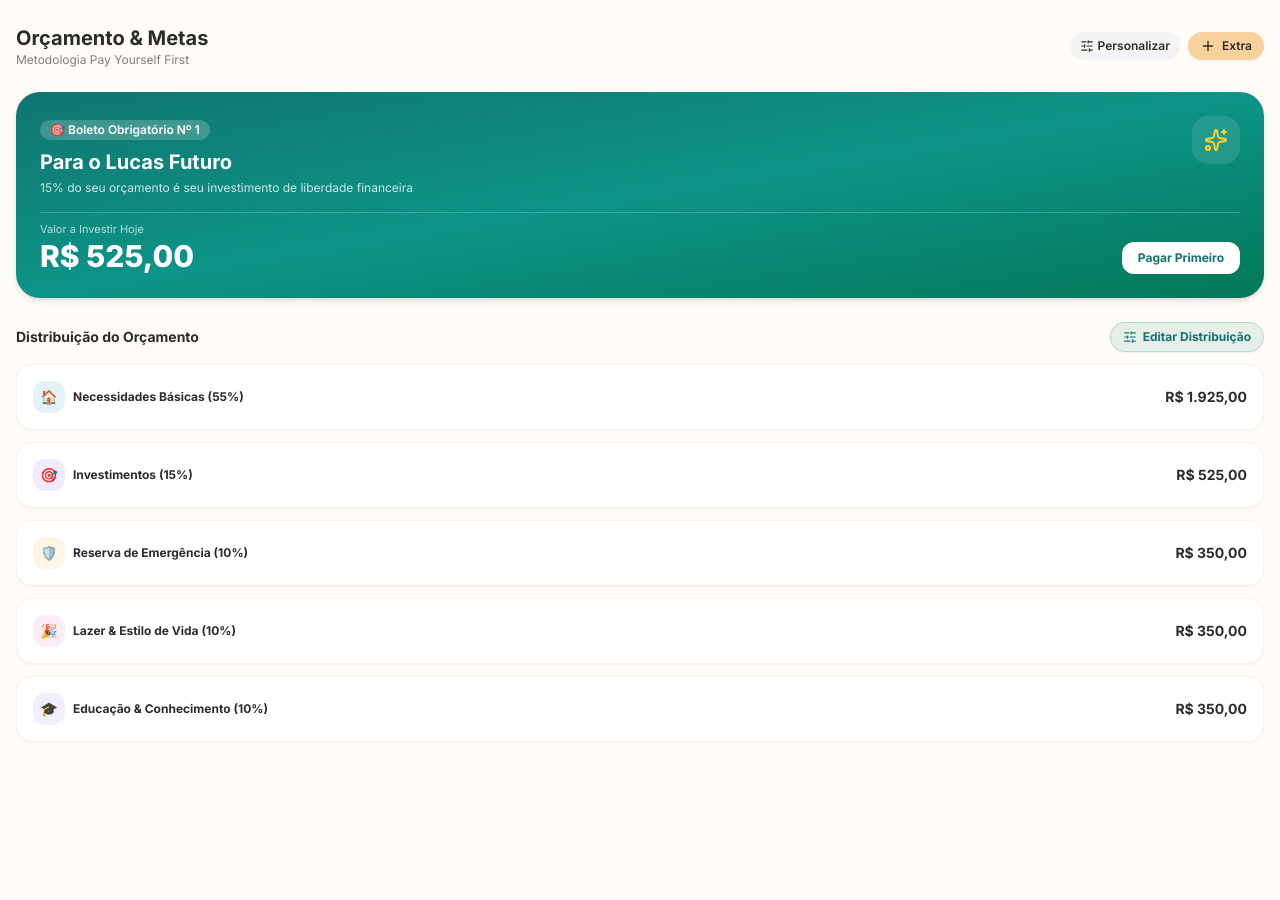
it: BudgetPage component - Pagar Primeiro › opens the InvestmentForm modal with pre-filled values when clicking 'Pagar Primeiro'
expect the heading "Orçamento & Metas" is shown: met, box [16,24,208,52]
// Click Pagar Primeiro
Click the button "Pagar Primeiro".
click(1181, 258)  # box [1122,242,1240,274]
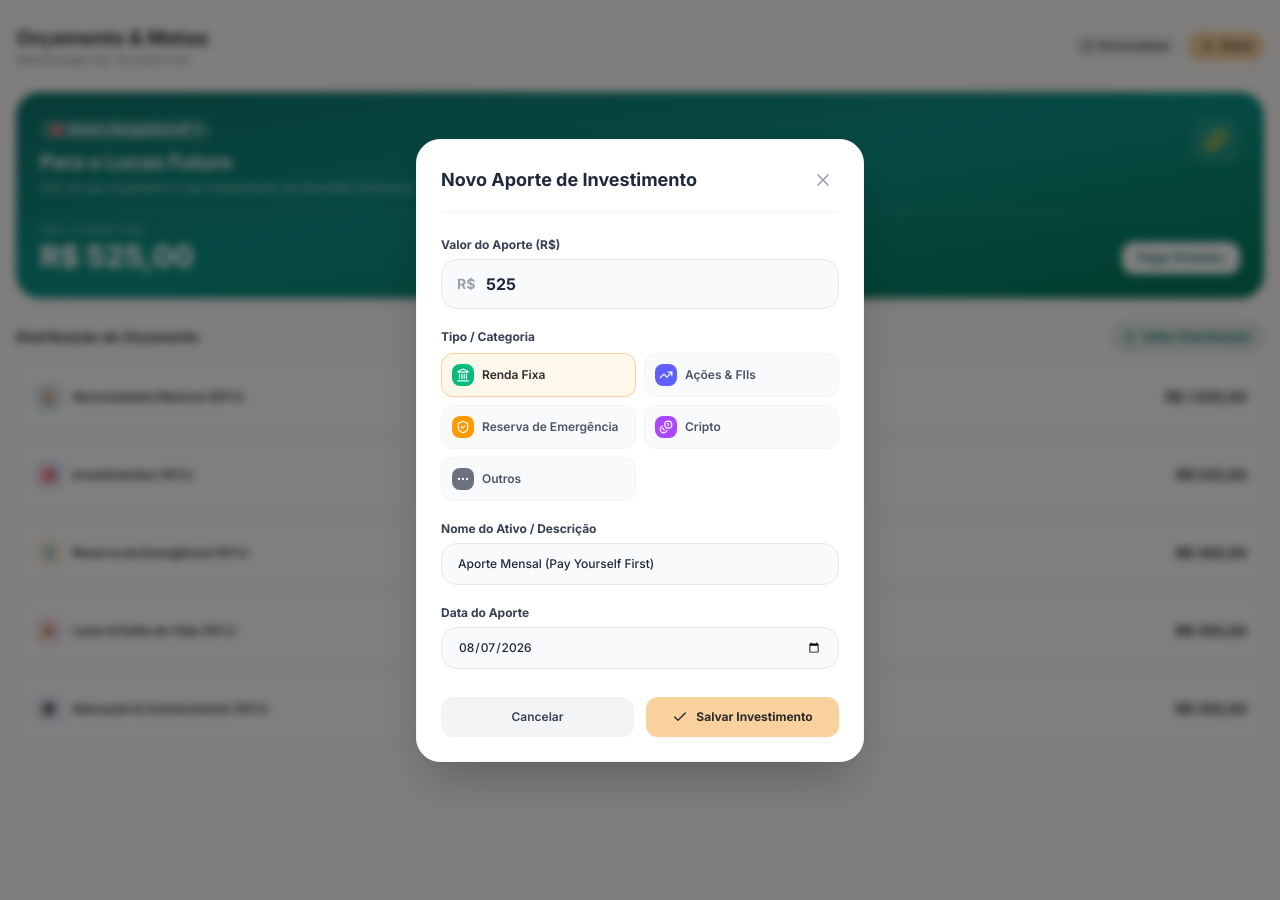
expect the heading "Novo Aporte de Investimento" is shown: met, box [441,166,697,194]
expect the field showing "Aporte Mensal (Pay Yourself First)" is shown: met, box [441,542,839,584]
expect the number field showing "525" is shown: met, box [441,258,839,308]
